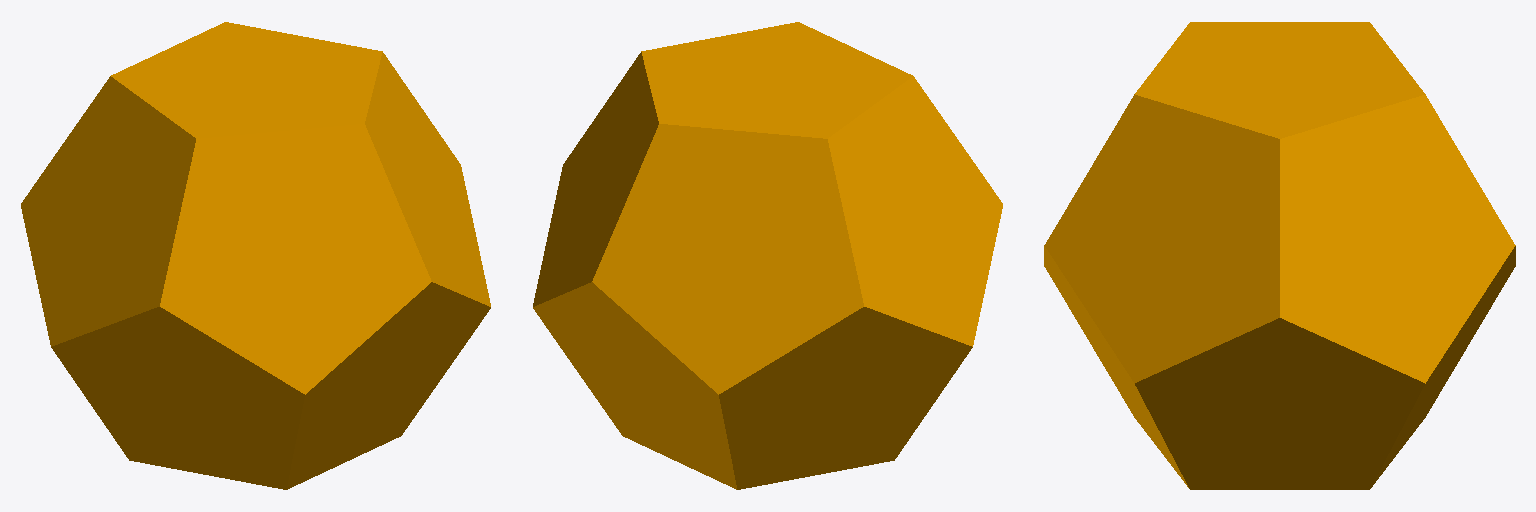
URDF robot description (dodec.off):
<?xml version="1.0"?>
<robot name="dodec.off">
	<link name="dodec.off">
		<inertial>
			<!--origin xyz="0 0 0" rpy="0 0 0" /-->
			<mass value="0.5" />
			<!--inertia ixx="0.000360" ixy="0" ixz="0" iyy="0.0000615" iyz="0" izz="0.00036" /-->
		</inertial>
    		<visual>
	      		<!--origin rpy="0 0 0" xyz="0 0 0"/-->
      			<geometry>
        			<mesh filename="dodec.off.obj"/>
      			</geometry>
         	</visual>
    		<collision>
      			<!--origin rpy="0 0 0" xyz="0 0 0"/-->
      			<geometry>
        			<mesh filename="dodec.off.obj"/>
      			</geometry>
    		</collision>
	</link>
</robot>

--- Render facts (derived) ---
3 views of the same robot in one strip: view 1: azimuth 30°, elevation 25°; view 2: azimuth 150°, elevation 25°; view 3: azimuth 270°, elevation 25° (orthographic).
Model dodec.off with 1 links and 0 joints (none), rooted at dodec.off, posed every joint at zero.
Links seen in each view (by area): view 1: dodec.off; view 2: dodec.off; view 3: dodec.off.
Boxes of the visible links, x1=… form: dodec.off: x1=21, y1=22, x2=490, y2=489; dodec.off: x1=533, y1=22, x2=1002, y2=489; dodec.off: x1=1044, y1=22, x2=1515, y2=489.
Size in the robot's own frame: 3.93 by 3.74 by 3.18 metres.
Meshes: 1 distinct files referenced, 1 mesh visuals loaded (1 OBJ).